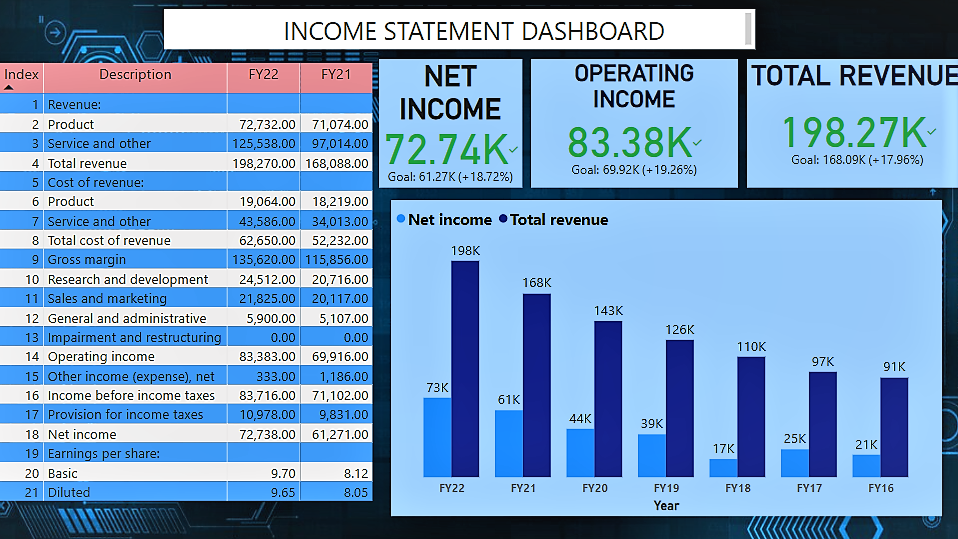

This screenshot's page, from the dashboard's own definition file:
{"tool":"powerbi","page":{"name":"Page 1","canvas":[1280,720],"ordinal":0},"visuals":[{"type":"textbox","box":[231,15.6,762.5,52.4],"z":0},{"type":"tableEx","fields":{"Values":["Yearly Income Statements.Index","Yearly Income Statements.Description","Yearly Income Statements.FY22","Yearly Income Statements.FY21"]},"box":[13.4,80.5,494.9,577.1],"z":1000},{"type":"kpi","title":"NET INCOME","fields":{"Indicator":["Sum(Net Income.FY22)"],"Goal":["Sum(Net Income.FY21)"],"TrendLine":["Net Income.Description"]},"box":[508.3,80.5,184.5,166.1],"z":2000},{"type":"kpi","title":"TOTAL REVENUE","fields":{"Indicator":["Sum(Total Revenue.FY22)"],"Goal":["Sum(Total Revenue.FY21)"],"TrendLine":["Total Revenue.Description"]},"box":[983.1,80.5,285.2,166.1],"z":2001},{"type":"kpi","title":"OPERATING INCOME","fields":{"Indicator":["Sum(Operating Income.FY22)"],"Goal":["Sum(Operating Income.FY21)"],"TrendLine":["Operating Income.Description"]},"box":[704.6,80.5,266.7,166.1],"z":2002},{"type":"clusteredColumnChart","fields":{"Category":["Table.Description"],"Y":["Sum(Table.Net income)","Sum(Table.      Total revenue)"]},"box":[523.4,261.7,711.3,407.7],"z":2003}]}

Visuals, with their boxes in screenshot pixels (x1, y1, x2, y2), scaled from the page's 1280x720 canvas onto the 958x539 screenshot:
textbox: {"left": 173, "top": 12, "right": 744, "bottom": 51}
tableEx - Yearly Income Statements.Index x Yearly Income Statements.Description: {"left": 10, "top": 60, "right": 380, "bottom": 492}
"NET INCOME" kpi: {"left": 380, "top": 60, "right": 519, "bottom": 185}
"TOTAL REVENUE" kpi: {"left": 736, "top": 60, "right": 949, "bottom": 185}
"OPERATING INCOME" kpi: {"left": 527, "top": 60, "right": 727, "bottom": 185}
clusteredColumnChart - Table.Description x Sum(Table.Net income): {"left": 392, "top": 196, "right": 924, "bottom": 501}
